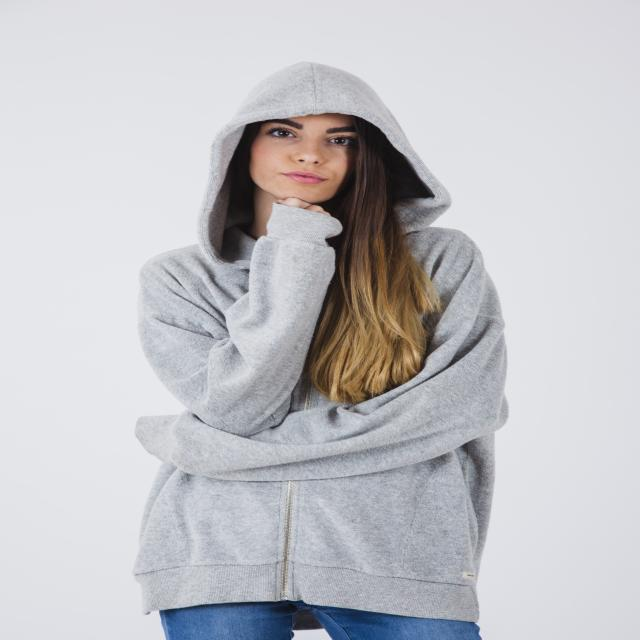4_capucha: (197, 60, 454, 266)
